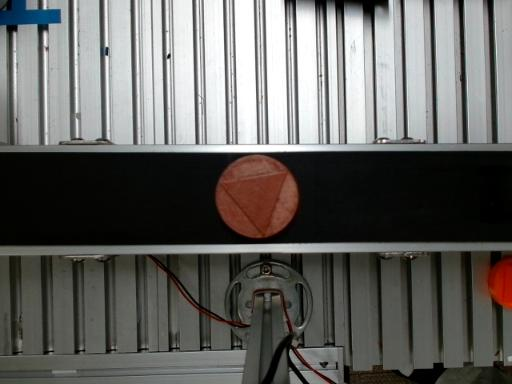Brown_Waper: (217, 154, 298, 238)
Not_Square: (218, 172, 288, 237)
